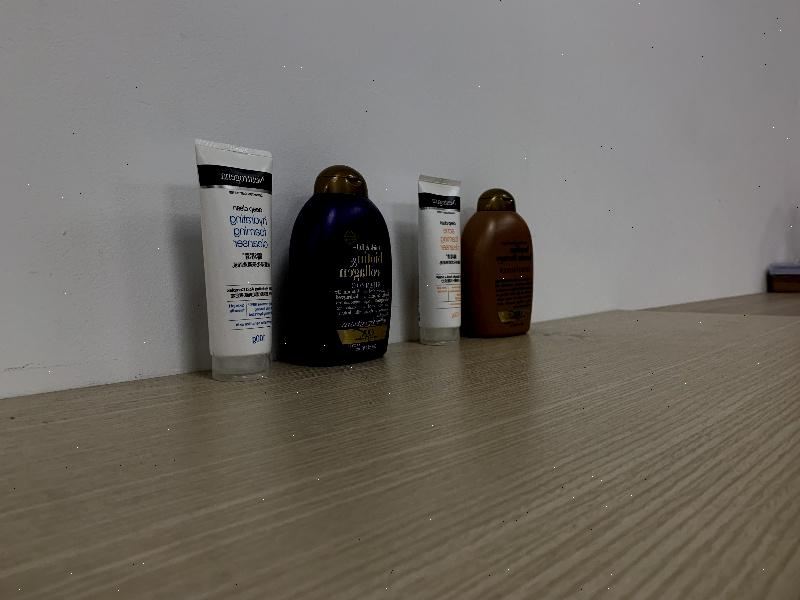AcneFoamingCleanser: (418, 174, 460, 345)
BiotinCollagen_Shampoo: (289, 164, 393, 366)
BrazilianKerationTherapy_Conditioner: (461, 188, 533, 338)
HydratingFoamingCleanser: (194, 138, 273, 382)
